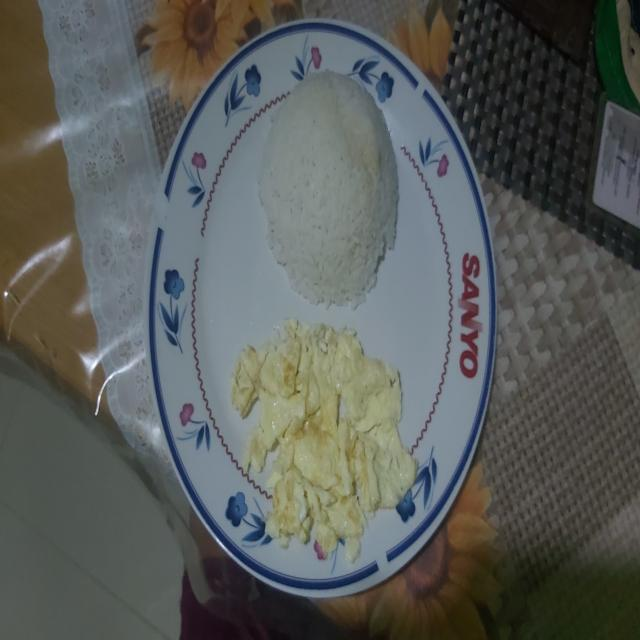Chicken -Chicken Inasal-: (260, 70, 401, 306)
